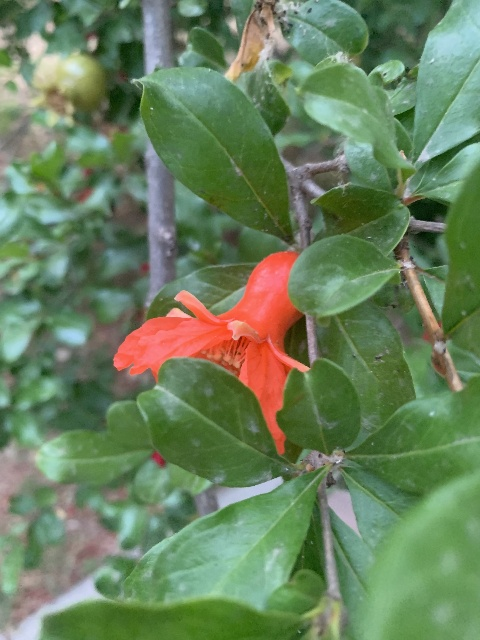flower: (113, 250, 311, 454)
mid-growth: (28, 53, 107, 121)
